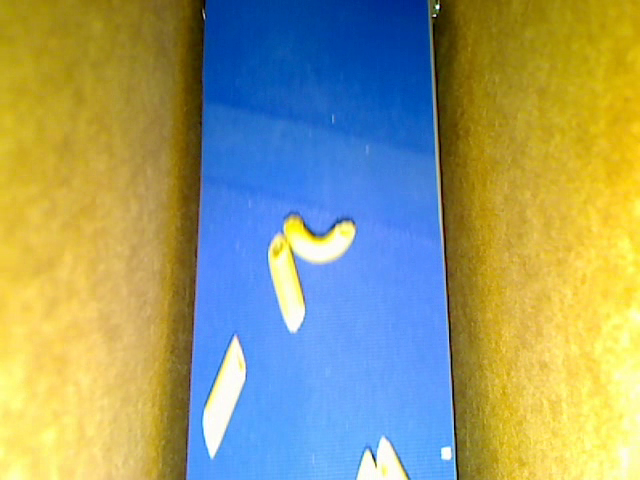elbow: (283, 214, 355, 264)
penne: (200, 333, 246, 460), (267, 230, 306, 333)
